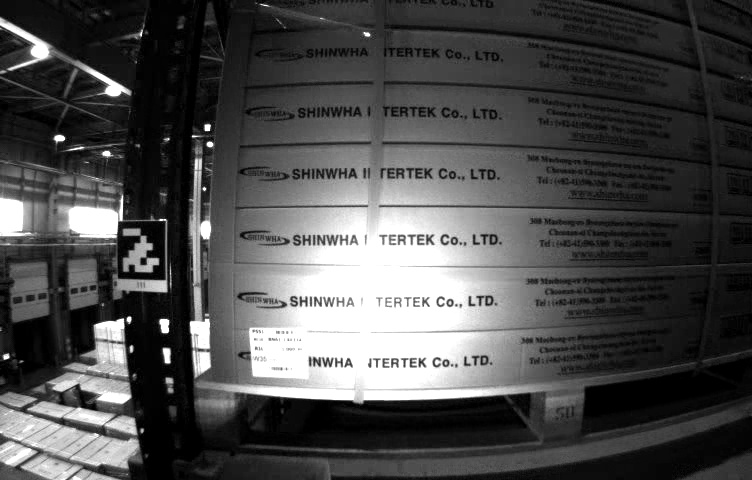True Barcode: (249, 328, 311, 378)
